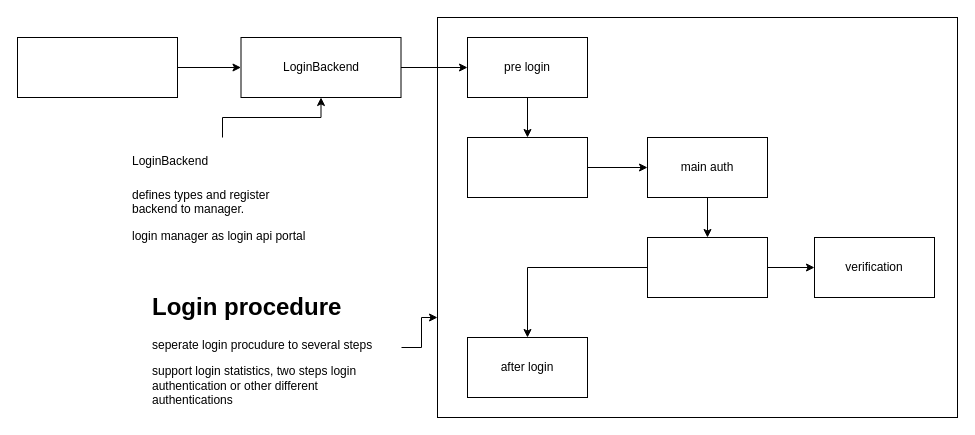
Image size: 975x435. Some labels were removed from this diagram. The centre of each missing label's shape, as x and y in pixels:
additional auth: [707,267]
do login: [527,167]
LoginManager: [97,67]
